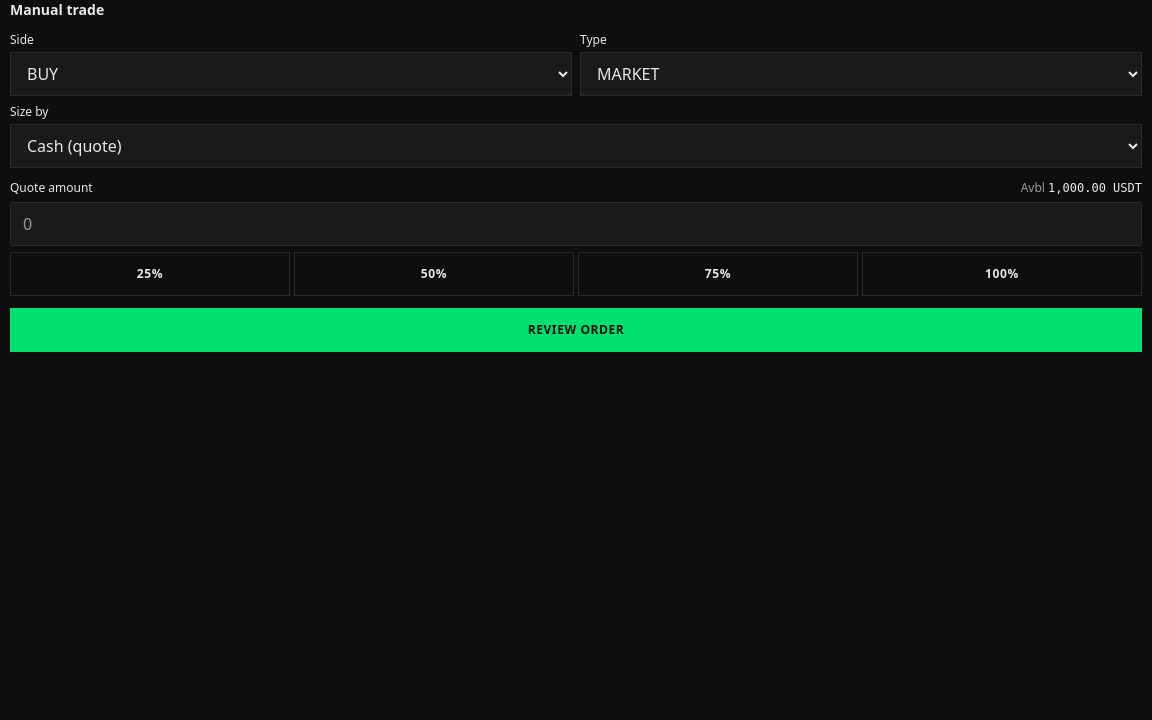
ManualTradePanel — interactions › recaps Price, Amount and Total in the confirm modal for a MARKET order
This screenshot has width=1152, height=720.
Expected: the element with test id "manual-avbl" shows "1,000.00 USDT", [1021,180,1142,196]
Type "100" into the field with test id "manual-amount".
click(576, 224); type("100")  # box [10,202,1142,246]
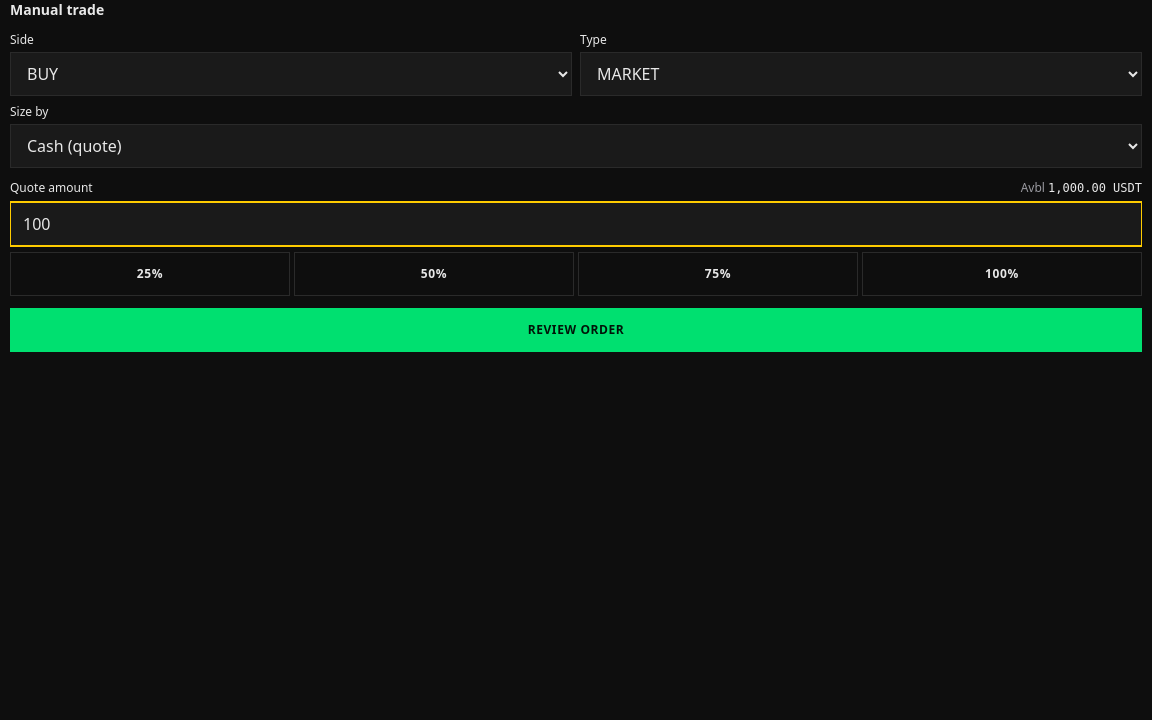
Click the button with test id "manual-review".
click(576, 330)  # box [10,308,1142,352]
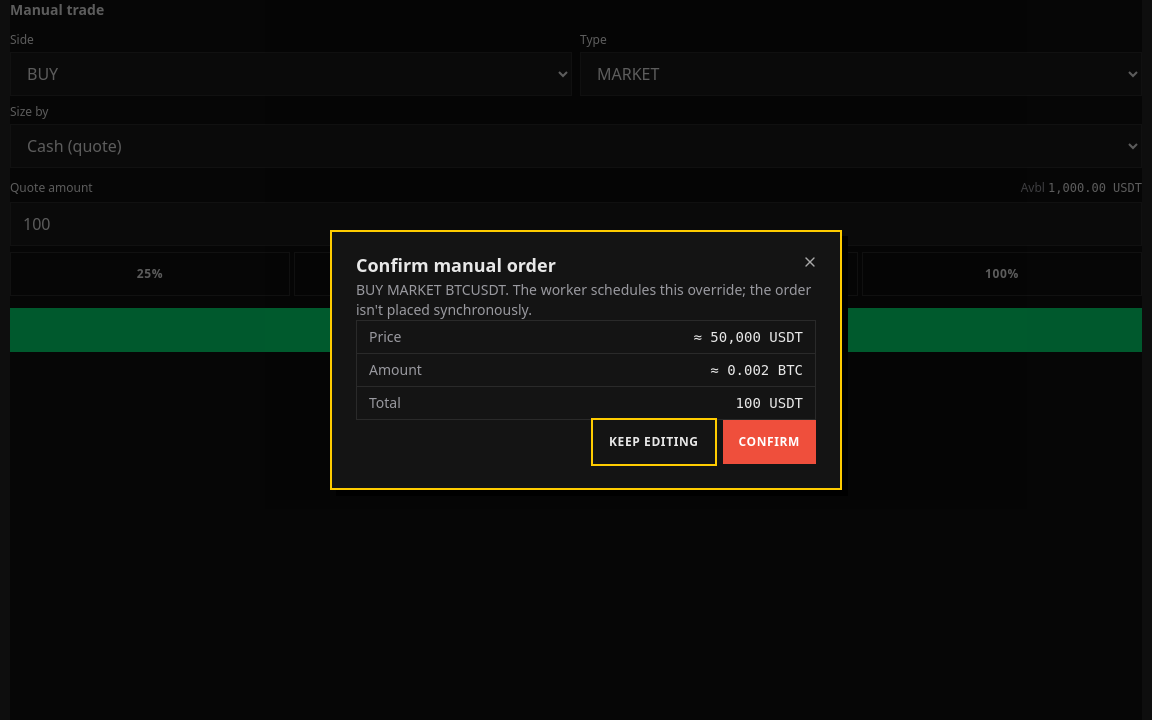
Expected: the element with test id "manual-order-recap" is shown, [356,320,816,420]
Expected: the text with test id "recap-price" reads "≈ 50,000 USDT", [693,329,803,345]
Expected: the text with test id "recap-amount" reads "≈ 0.002 BTC", [710,362,803,378]
